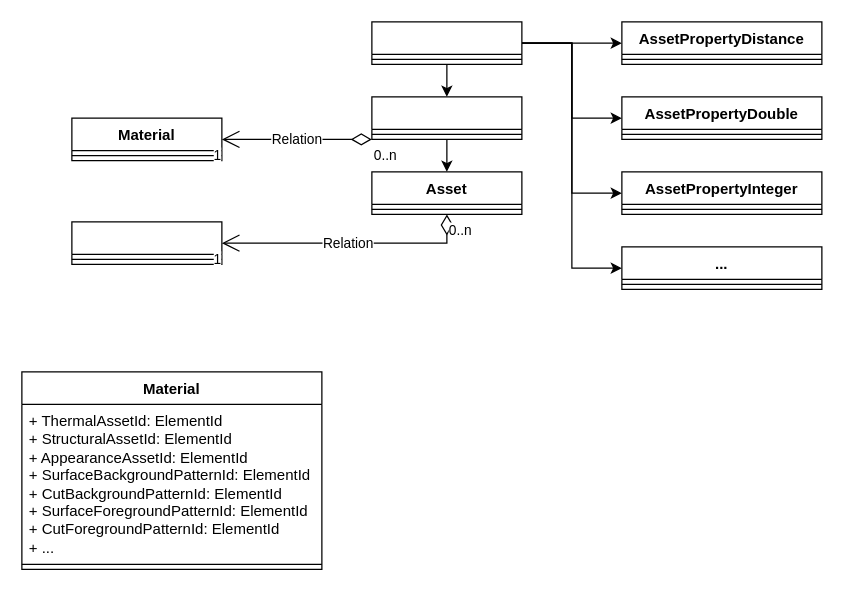
The diagram is 844 pixels wide and 591 high, and some of its shapes have lost their labels. The centre of each missing label's shape, as x and y in pixels:
"AssetProperties" belongs at point 446,117.
"AssetProperty" belongs at point 446,42.
"MaterialNode" belongs at point 146,242.
